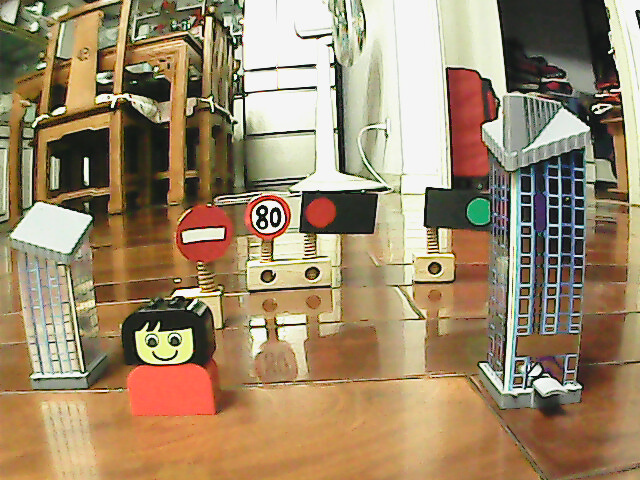Green Traffic Light: (458, 192, 493, 230)
Person: (120, 295, 226, 417)
Red Traffic Light: (300, 190, 340, 234)
Speed Limit 80: (242, 191, 293, 241)
Stop Sign: (173, 201, 235, 264)
